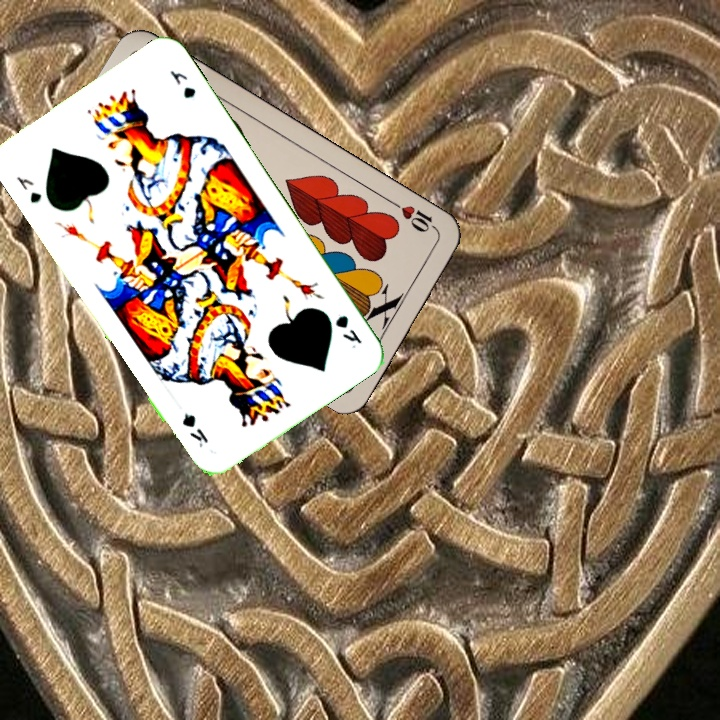GK: (331, 310, 365, 351), (12, 172, 44, 206)
H10: (388, 197, 441, 235)
